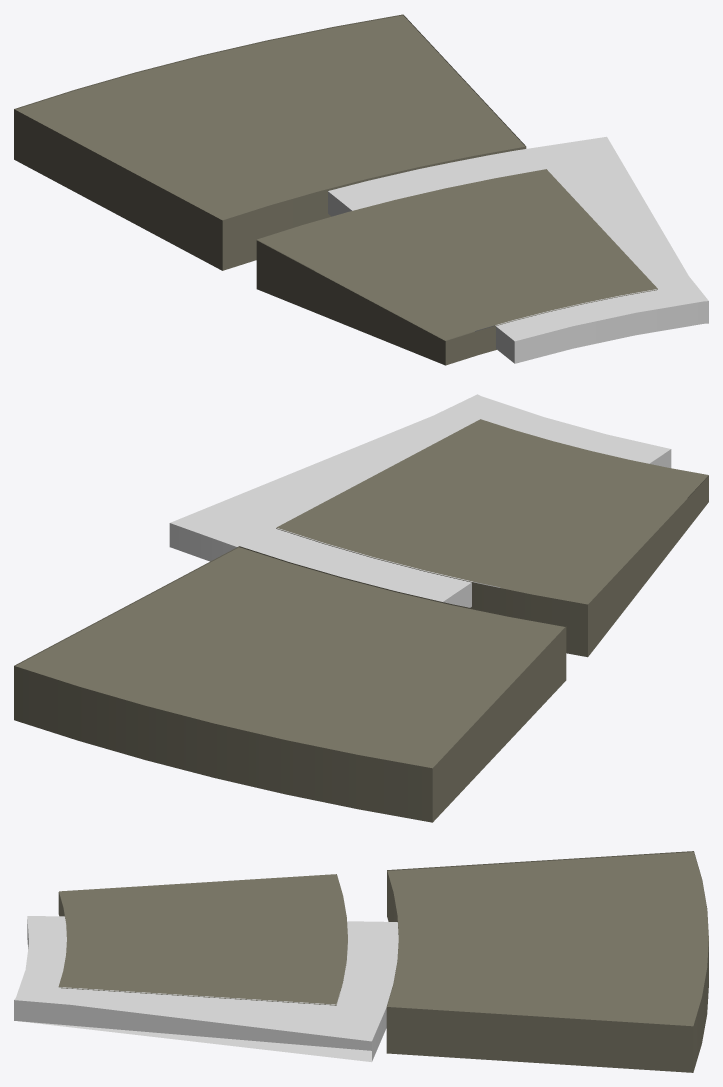
File: ToolsMenuButtonMesh.fbx
3 renders of one model, top to bottom at view 1: azimuth 30°, elevation 25°; view 2: azimuth 150°, elevation 25°; view 3: azimuth 270°, elevation 25°, orthographic. The views are drawn at different scales.
Parts seen in each view (by area): view 1: PinnedToolSecondaryButtonFaceMask, PinnedToolButtonFaceMask, PinnedToolButtonFrame, PinnedToolSecondaryButtonInset, PinnedToolButtonInset; view 2: PinnedToolSecondaryButtonFaceMask, PinnedToolButtonFaceMask, PinnedToolSecondaryButtonInset, PinnedToolButtonFrame, PinnedToolButtonInset; view 3: PinnedToolSecondaryButtonFaceMask, PinnedToolButtonFaceMask, PinnedToolButtonFrame, PinnedToolSecondaryButtonInset, PinnedToolButtonInset.
Part boxes in pixels (x1,y1,x2,y2): PinnedToolSecondaryButtonFaceMask: (15,15,525,220); PinnedToolButtonFaceMask: (257,169,657,340); PinnedToolButtonFrame: (328,136,708,363); PinnedToolSecondaryButtonInset: (14,14,526,270); PinnedToolButtonInset: (256,240,657,365); PinnedToolSecondaryButtonFaceMask: (15,547,564,768); PinnedToolButtonFaceMask: (276,419,708,603); PinnedToolSecondaryButtonInset: (14,546,566,822); PinnedToolButtonFrame: (169,394,671,607); PinnedToolButtonInset: (276,475,708,657); PinnedToolSecondaryButtonFaceMask: (387,852,708,1026); PinnedToolButtonFaceMask: (58,874,347,1004); PinnedToolButtonFrame: (14,916,398,1062); PinnedToolSecondaryButtonInset: (386,851,708,1072); PinnedToolButtonInset: (58,892,346,1005).
Bounding box in the file's own units: 9.75 × 1.12 × 15.19.
